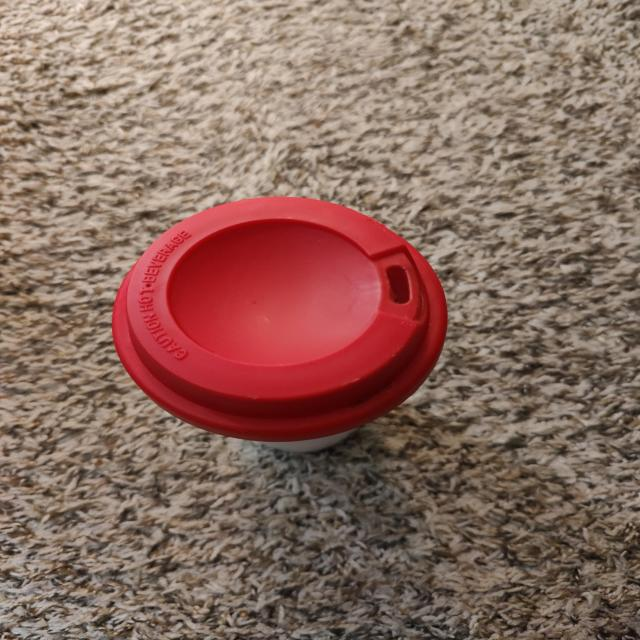mug: (104, 216, 473, 451), (96, 190, 98, 194)
